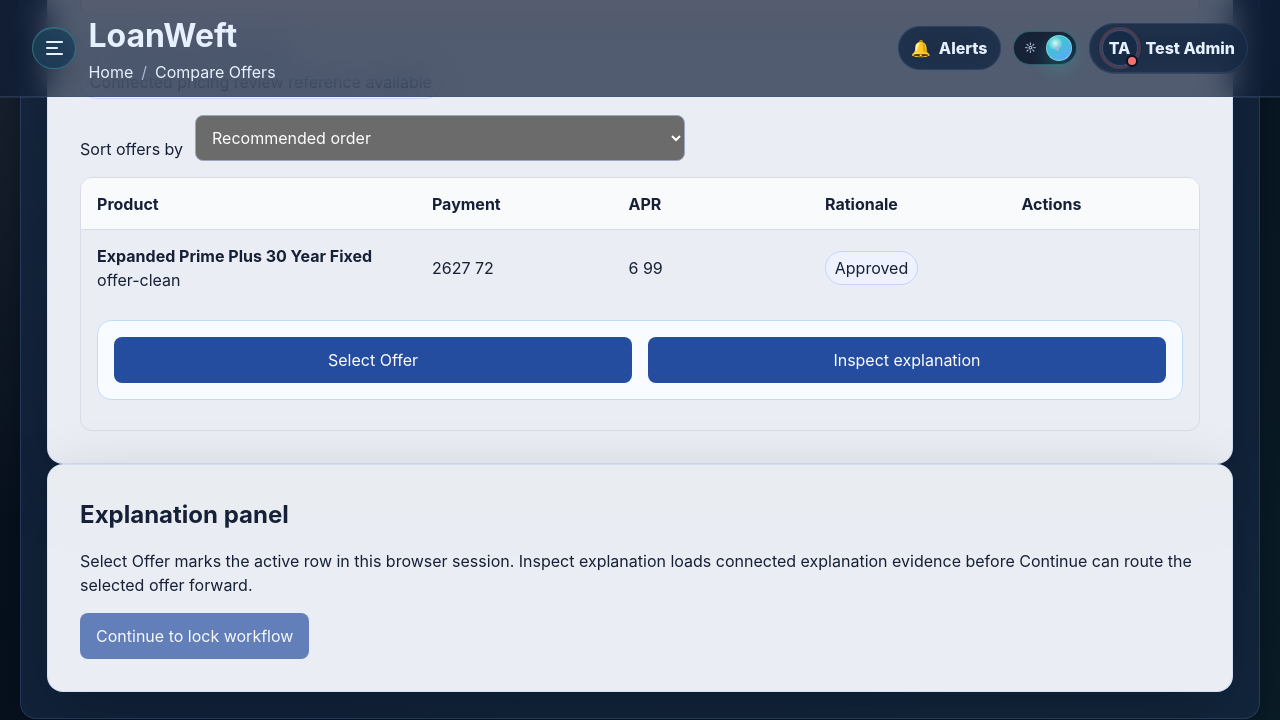
it: App routing shell › sanitizes internal provider and source references on the live Compare Offers route
(page scrolled)
Check: the table named "Offer comparison rows" is shown, box [80, 177, 1200, 431]
Click the button with aria-label "Select offer offer-clean for comparison": (373, 360) [114, 337, 632, 383]
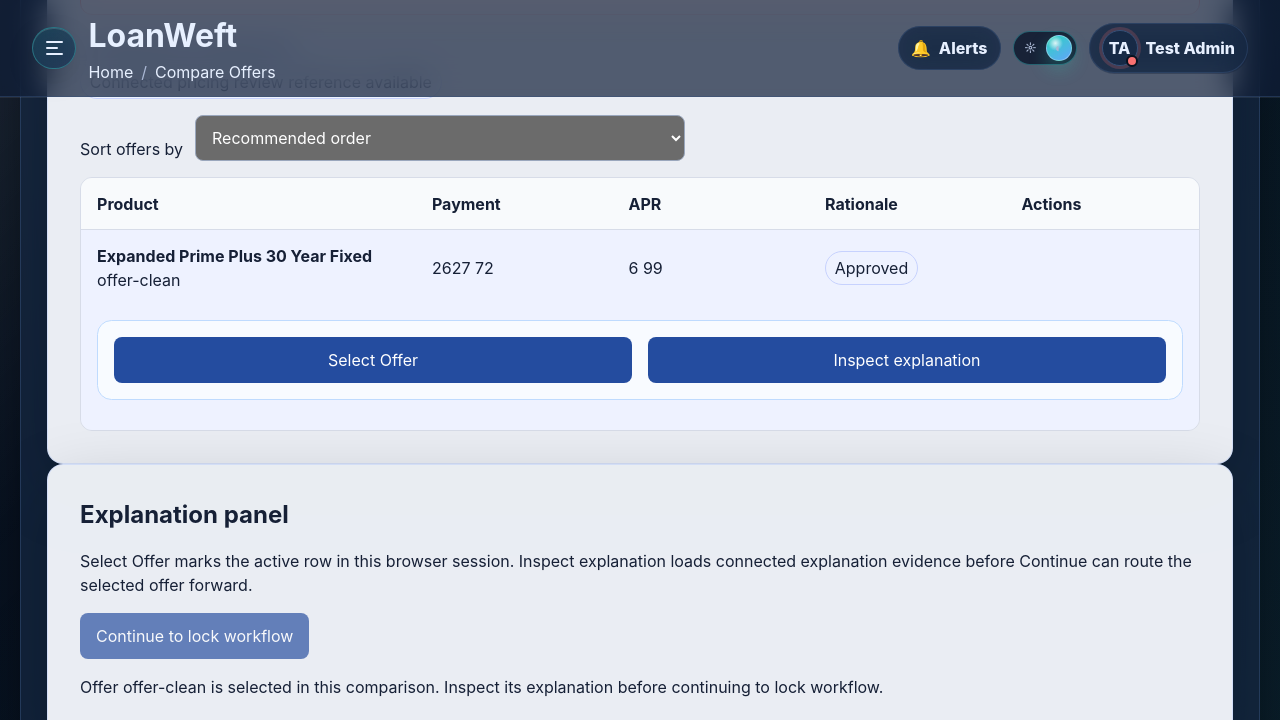
Check: the message shows "Offer offer-clean is selected in this comparison", box [80, 677, 883, 697]
Click the button with aria-label "Inspect explanation for offer offer-clean": (907, 360) [648, 337, 1166, 383]
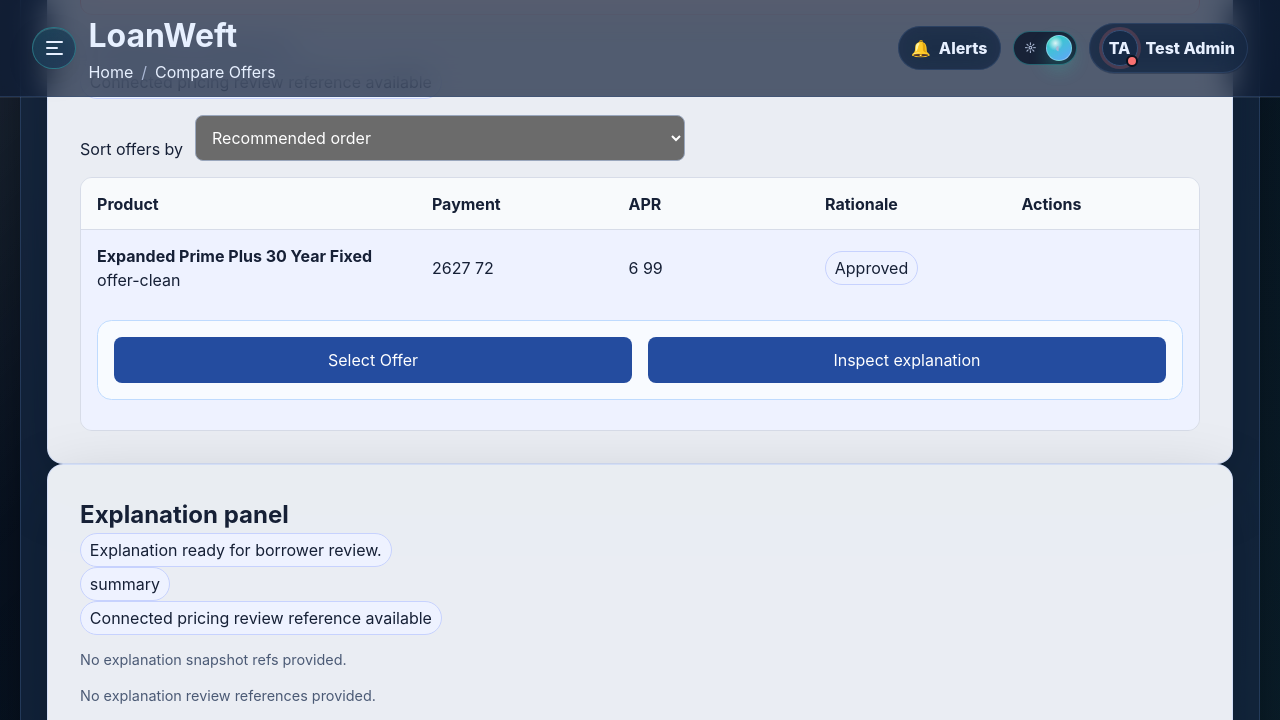
Check: the list item "Explanation ready for borrower review." is shown, box [80, 533, 392, 567]
